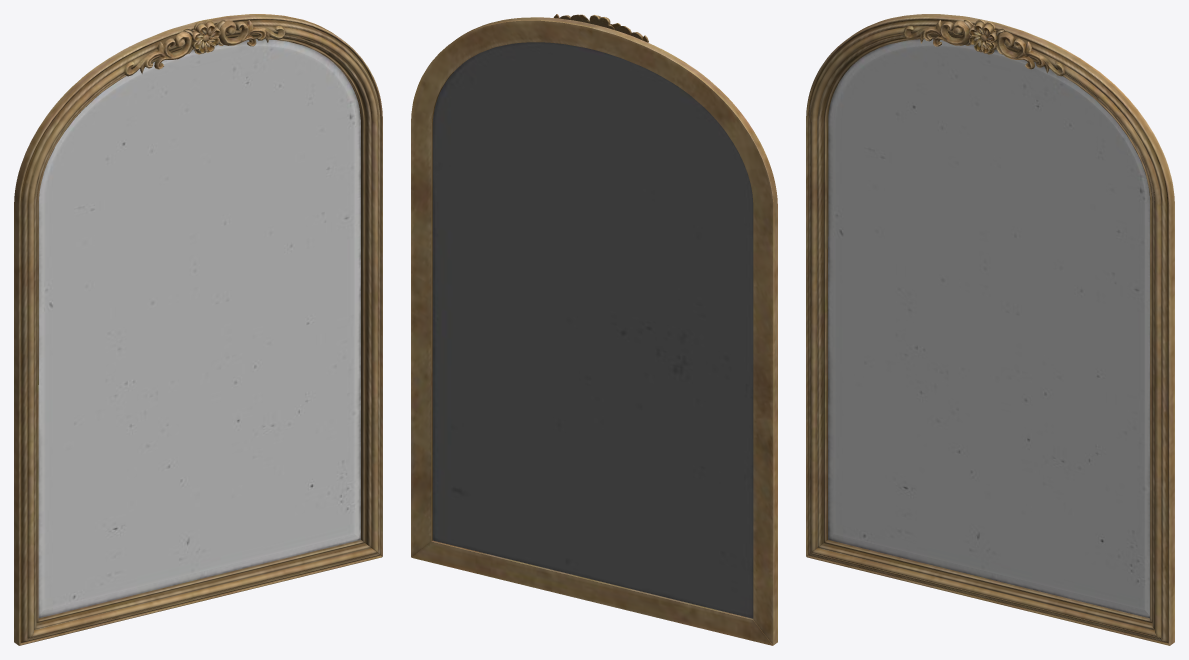
Rendered from ornate_mirror_01.glb.
3 views of the same model, side by side, from view 1: azimuth 30°, elevation 25°; view 2: azimuth 150°, elevation 25°; view 3: azimuth 330°, elevation 25° (orthographic).
Visible parts, largest first — view 1: ornate_mirror_01; view 2: ornate_mirror_01; view 3: ornate_mirror_01.
Boxes of the visible parts, x1=… form: ornate_mirror_01: x1=14, y1=14, x2=382, y2=645; ornate_mirror_01: x1=411, y1=14, x2=777, y2=645; ornate_mirror_01: x1=806, y1=14, x2=1174, y2=645.
Size of the model in its own units: 0.4865 by 0.7442 by 0.026.
Materials: 1 (1 with a texture image).
